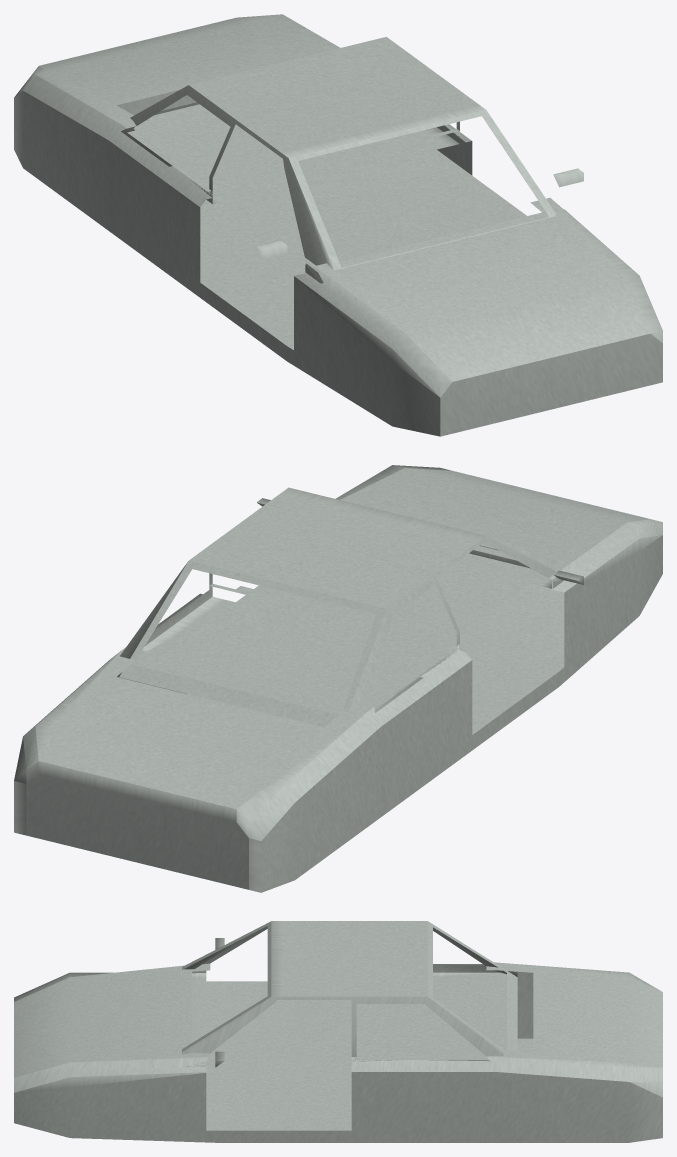
3 renders of one model, top to bottom at view 1: azimuth 30°, elevation 25°; view 2: azimuth 150°, elevation 25°; view 3: azimuth 270°, elevation 25°, orthographic. The views are drawn at different scales.
Bounding box in the file's own units: 2.08 × 1.04 × 4.64.
Materials: 1 (1 with a texture image).
